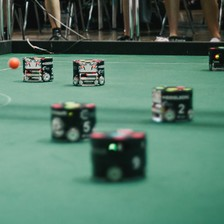ball: (6, 55, 21, 69)
robot: (87, 126, 150, 183), (47, 99, 93, 143), (148, 81, 196, 123), (68, 57, 107, 88), (20, 53, 54, 84), (205, 45, 224, 73)
